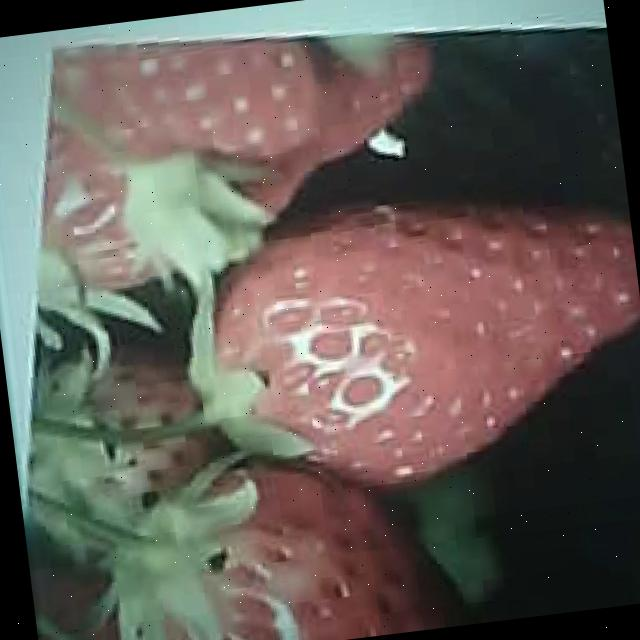strawberry: (184, 176, 640, 510)
